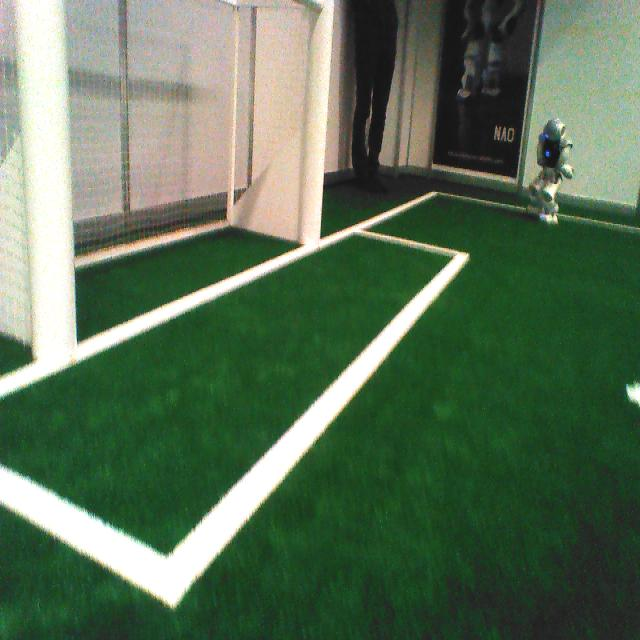goalpost: (11, 1, 77, 364), (296, 3, 335, 245)
